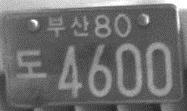0: (114, 41, 143, 97), (145, 40, 173, 97), (113, 10, 131, 36)
4: (56, 43, 83, 99)
6: (86, 43, 113, 98)
8: (94, 13, 112, 38)
도: (14, 48, 47, 79)
부산_O: (45, 13, 89, 38)
